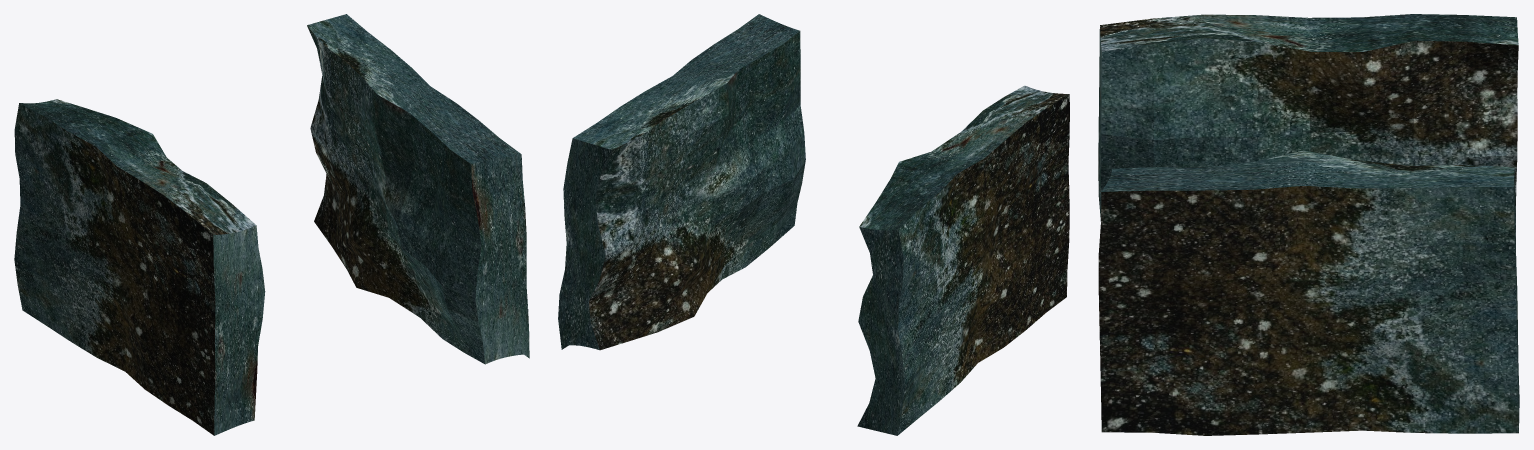
File: Walls with Texture .fbx
3 renders of one model, left to right at view 1: azimuth 30°, elevation 25°; view 2: azimuth 150°, elevation 25°; view 3: azimuth 270°, elevation 25°, orthographic. The views are drawn at different scales.
Visible parts, largest first — view 1: Wall_One, Wall2; view 2: Wall2, Wall_One; view 3: Wall2, Wall_One.
Boxes of the visible parts, x1,y1,x2,y2 form: Wall_One: [14, 99, 265, 435]; Wall2: [307, 14, 529, 364]; Wall2: [558, 14, 805, 350]; Wall_One: [857, 85, 1069, 435]; Wall2: [1098, 150, 1519, 435]; Wall_One: [1098, 14, 1518, 243].
Size of the model in its own units: 23.68 by 14.43 by 21.97.
Materials: 1 (1 with a texture image).
